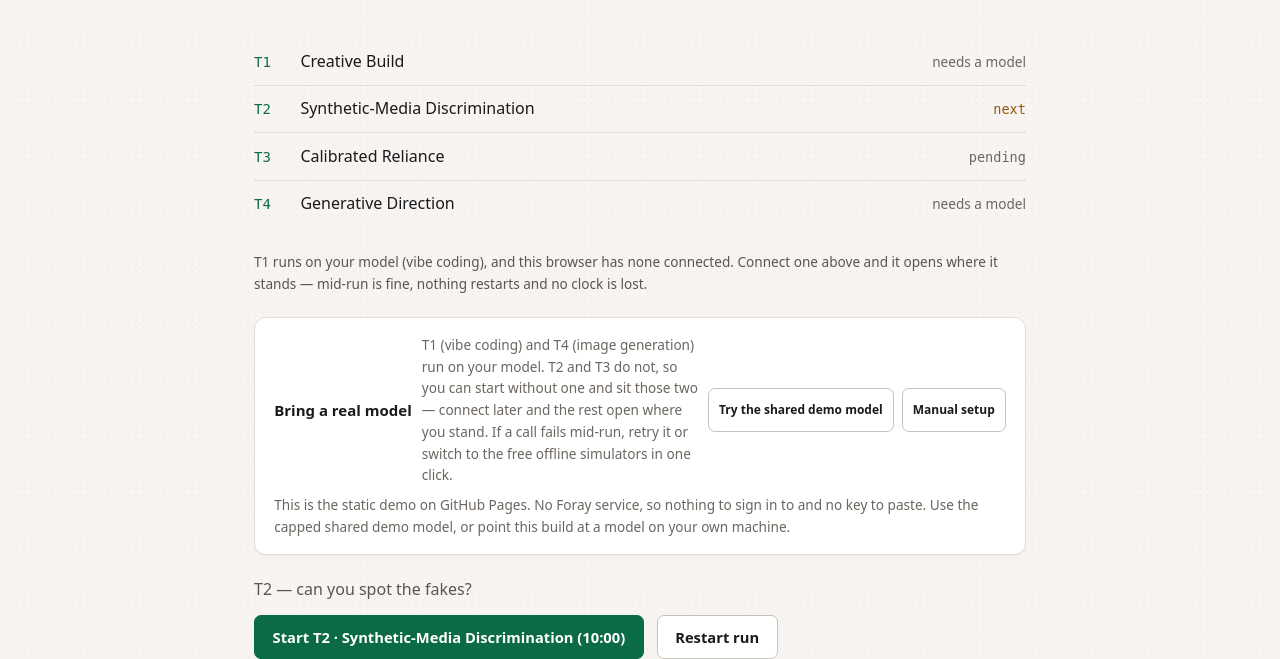
it: the exam page stops rather than warns › lets a candidate carry on once, having been told what it costs
This screenshot has width=1280, height=659.
(page scrolled)
Click the button "Start T2 · Synthetic-Media Discrimination (10:00)". click: (449, 637)
box: left=254, top=615, right=644, bottom=658
(page scrolled)
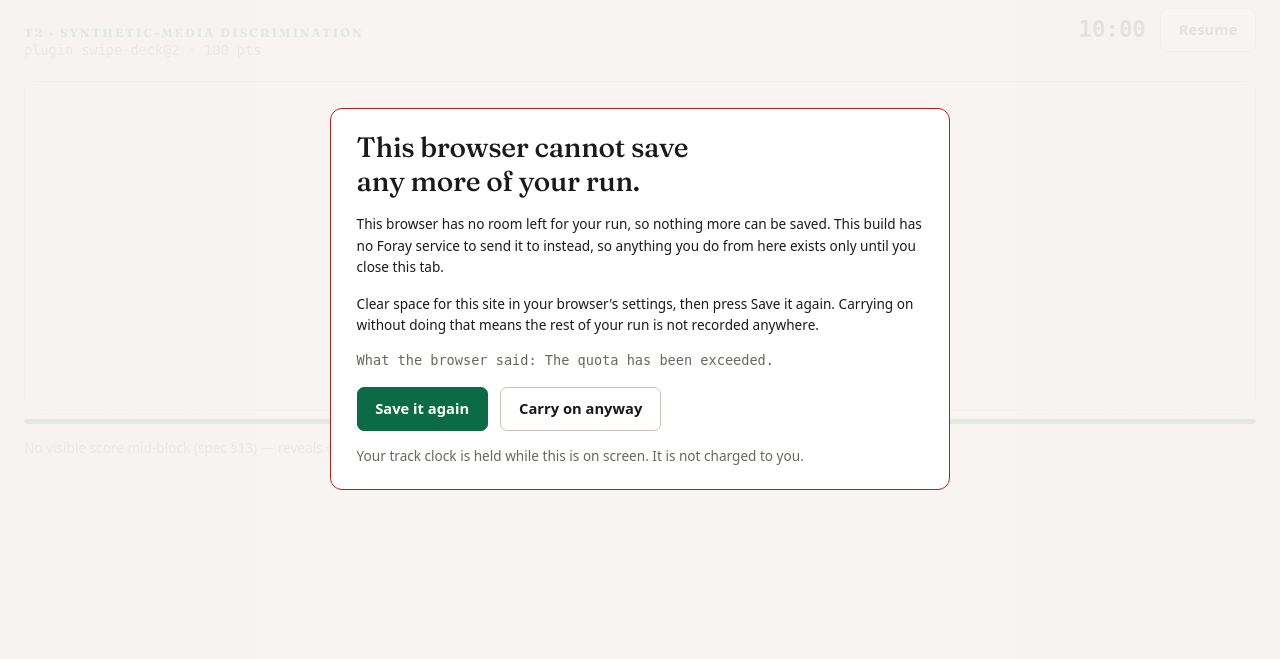
Click the button "Carry on anyway". click: (581, 408)
box: left=500, top=386, right=661, bottom=430
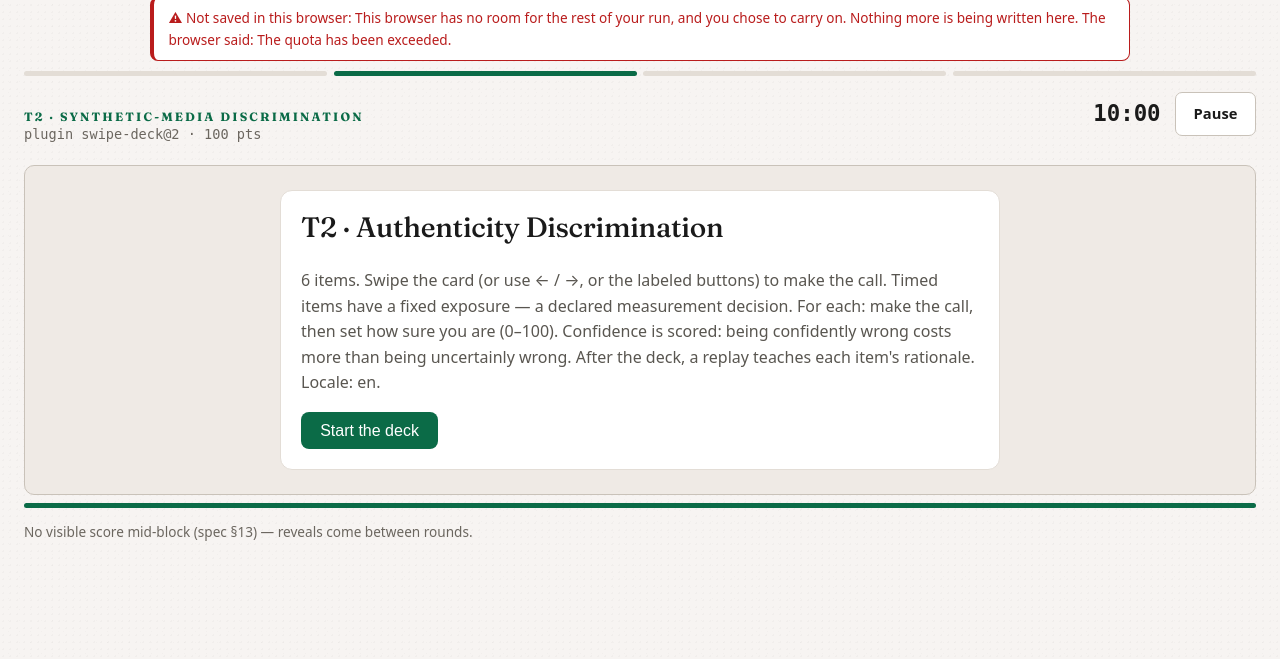
Result: the message with test id "persist-warning" shows "Not saved in this browser" at left=186, top=8, right=348, bottom=27
Result: the message with test id "persist-warning" shows "you chose to carry on" at left=168, top=8, right=1106, bottom=49
